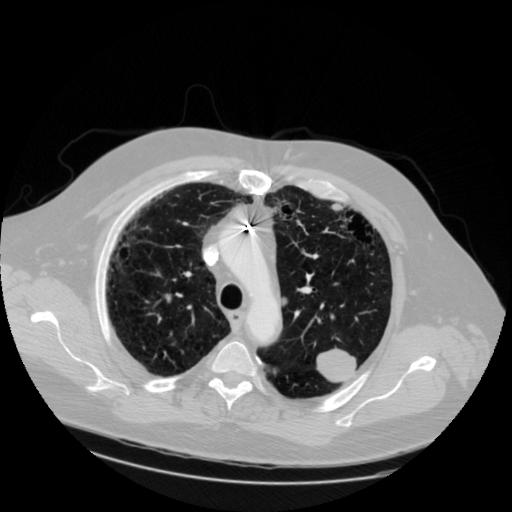nodule: (328, 199, 344, 215)
